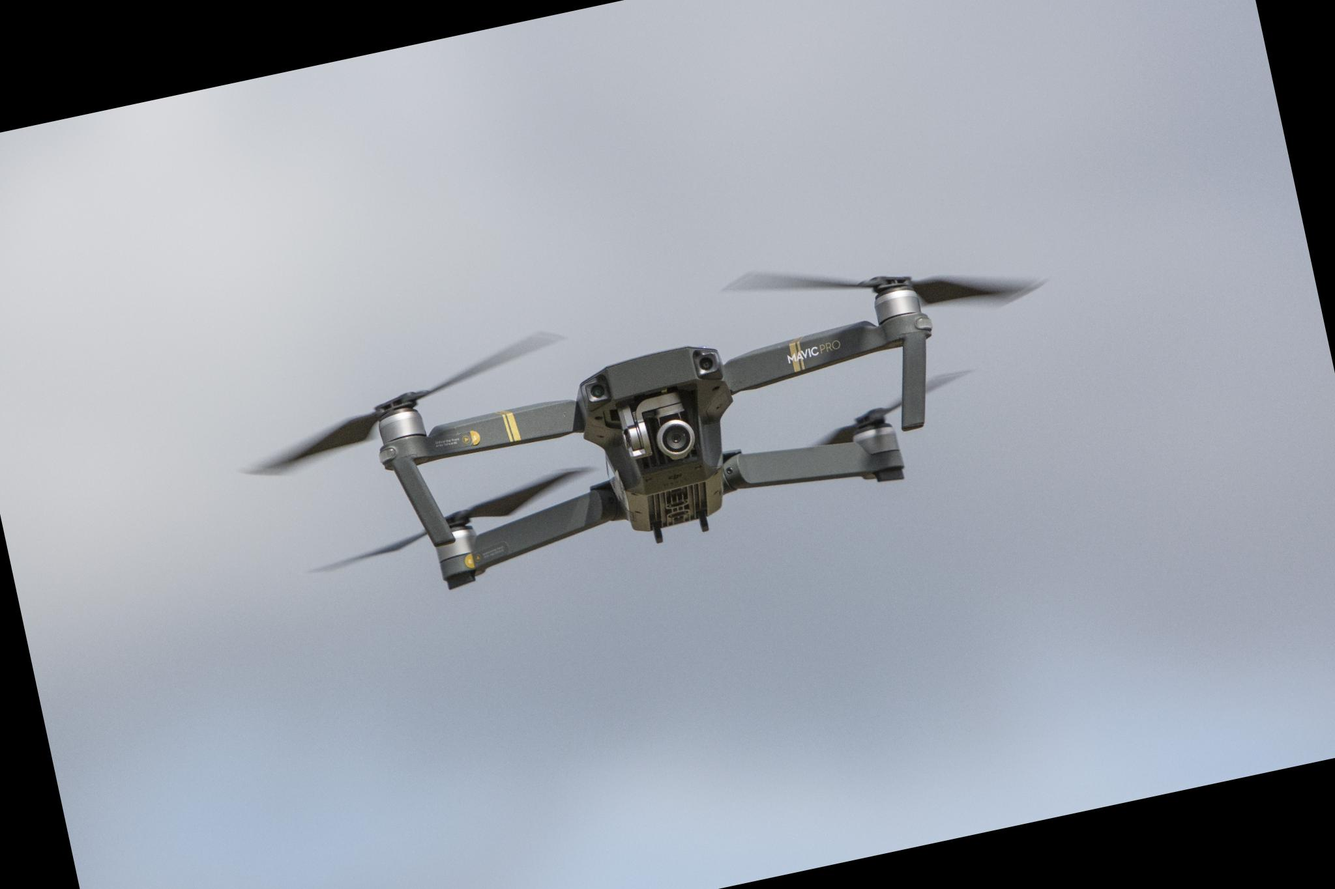drone: (250, 206, 1058, 641)
